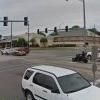Traffic light: (4, 10, 36, 29)
